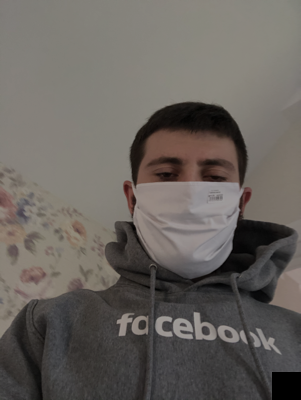with_mask: (134, 147, 241, 275)
